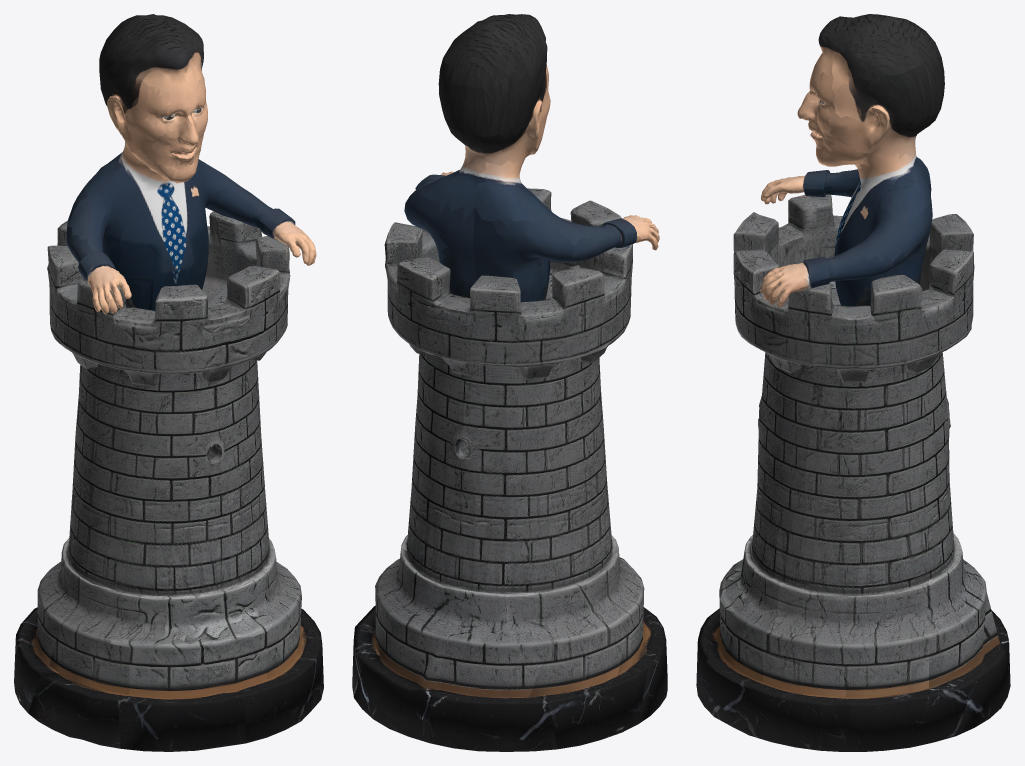
Rendered from right-rook-ks.glb.
The picture shows the model from 3 angles, left to right: view 1: azimuth 30°, elevation 25°; view 2: azimuth 150°, elevation 25°; view 3: azimuth 270°, elevation 25°; orthographic projection.
Size of the model in its own units: 0.4268 by 1 by 0.4277.
1 material, 1 textured.
